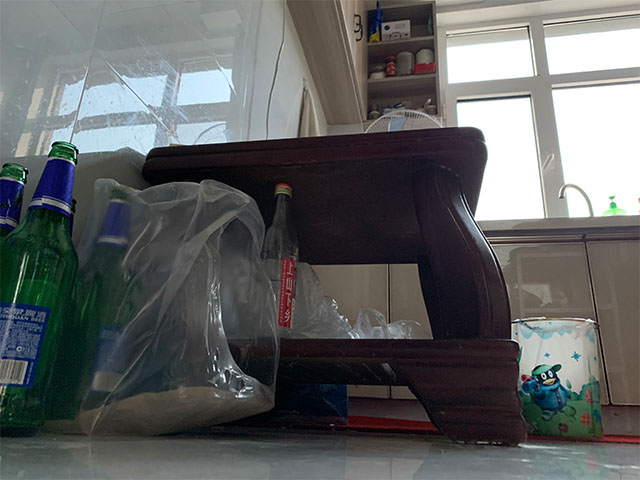cabinet: (504, 214, 640, 436)
carpet: (333, 415, 640, 446)
table: (142, 126, 529, 446)
trashcan: (512, 317, 605, 437)
